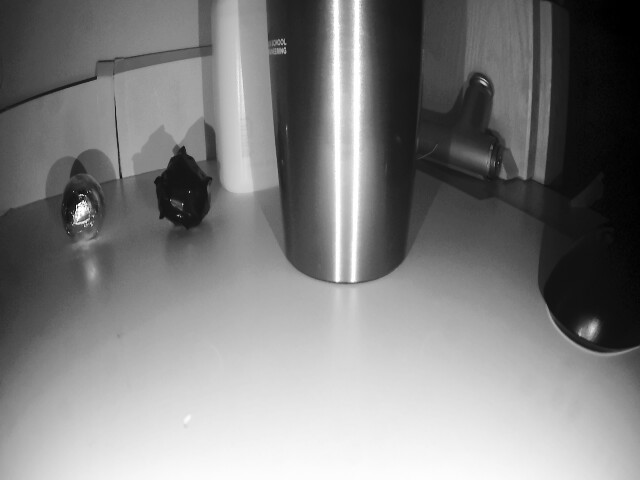black: (156, 143, 208, 241)
silver: (58, 173, 112, 249)
